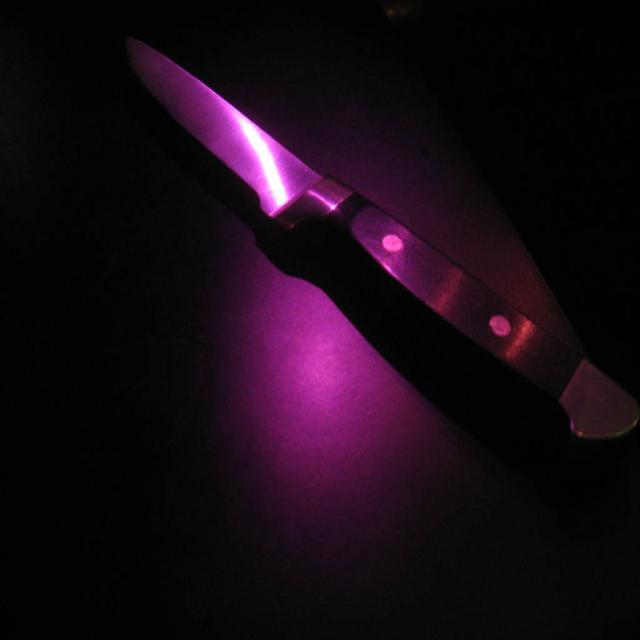Knife: (129, 40, 638, 438)
